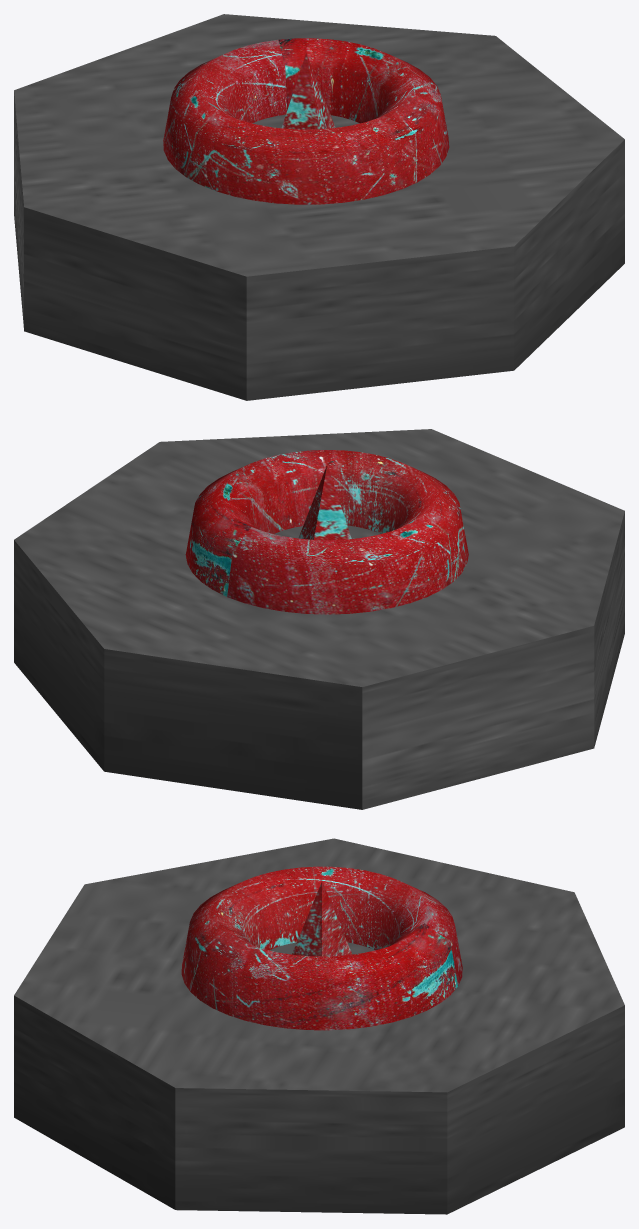
Rendered from Laser With Textures.fbx.
The picture shows the model from 3 angles, top to bottom: view 1: azimuth 30°, elevation 25°; view 2: azimuth 150°, elevation 25°; view 3: azimuth 270°, elevation 25°; orthographic projection.
Visible parts, largest first — view 1: pCylinder1, pPipe1, pPyramid1; view 2: pCylinder1, pPipe1, pPyramid1; view 3: pCylinder1, pPipe1, pPyramid1.
Boxes of the visible parts, left/top/right/bottom form: pCylinder1: left=14, top=14, right=624, bottom=400; pPipe1: left=163, top=38, right=449, bottom=204; pPyramid1: left=281, top=53, right=335, bottom=129; pCylinder1: left=14, top=429, right=624, bottom=809; pPipe1: left=185, top=450, right=468, bottom=614; pPyramid1: left=298, top=465, right=351, bottom=540; pCylinder1: left=14, top=838, right=624, bottom=1214; pPipe1: left=181, top=866, right=462, bottom=1030; pPyramid1: left=292, top=881, right=352, bottom=956.
Size of the model in its own units: 1.44 by 0.5618 by 1.47.
3 materials, 2 textured.
